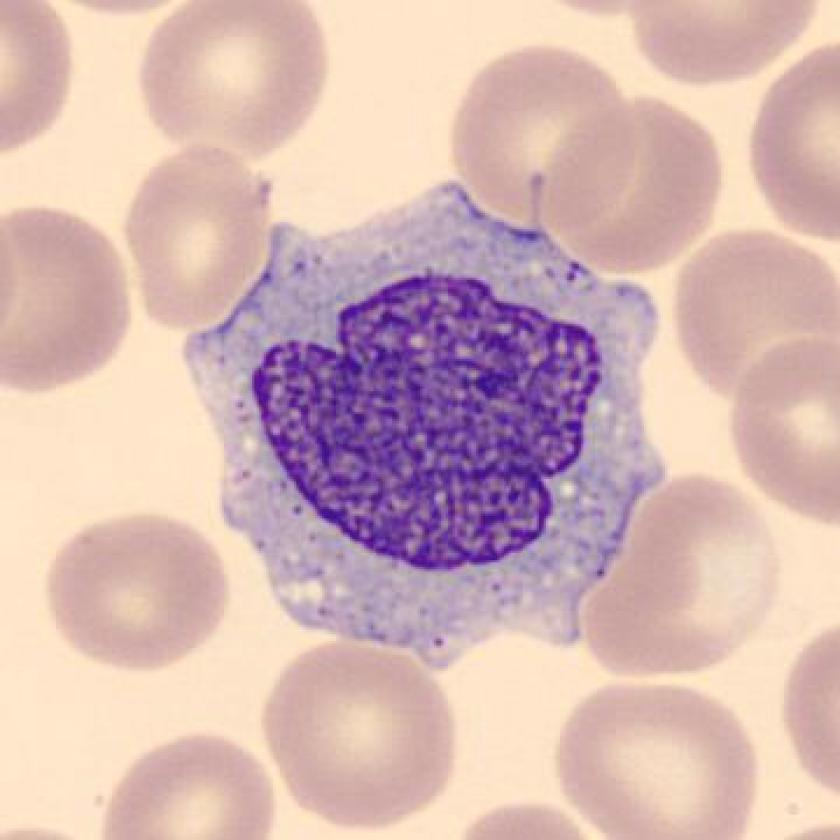monocyte: (160, 156, 692, 686)
